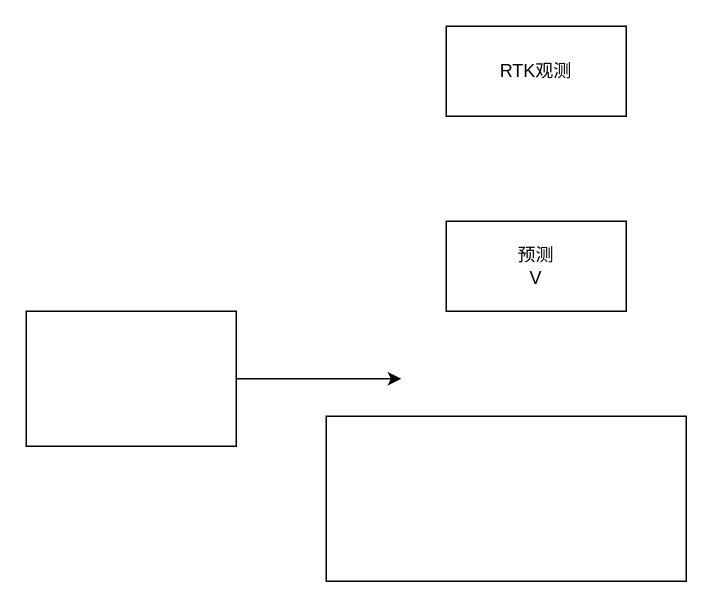
Image size: 713x608. Some labels were removed from this diagram. The shapes that lost their labels are listed below. From the top down, each one's centre as x and y in pixels, then its label:
At point 130,378: "ESKF初始化 初始化全局变量 监听 经、纬、高、航 imu wheel 1 .初始化陀螺仪&加速度计零偏 2.等待有效RTK点 3.等待有效观测值".
At point 505,498: "wheel观测 Rv wheel=V δh(x) /δh(y) = [0 3x3, I 3x3, 0 3x12 ]".
